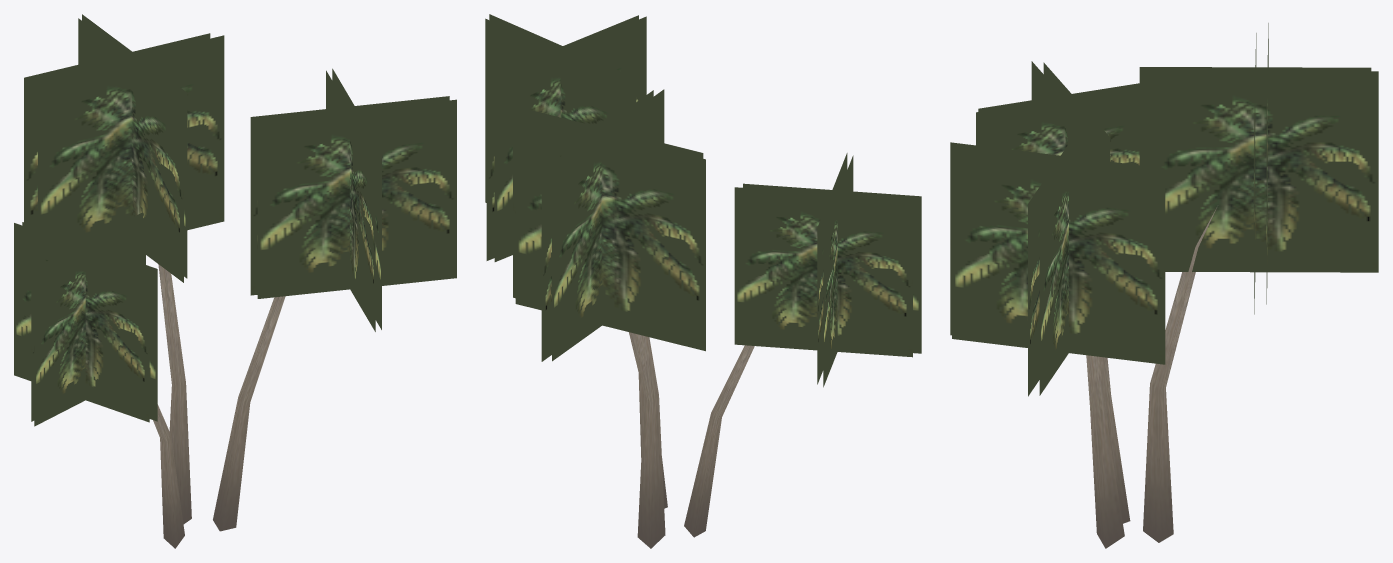
The model's file is palms.glb.
3 views of the same model, side by side, from view 1: azimuth 30°, elevation 25°; view 2: azimuth 150°, elevation 25°; view 3: azimuth 270°, elevation 25° (orthographic). The views are drawn at different scales.
Parts seen in each view (by area): view 1: palms; view 2: palms; view 3: palms.
Boxes of the visible parts, <box> form: palms: <box>14,14,456,548</box>; palms: <box>485,14,921,548</box>; palms: <box>950,23,1378,548</box>.
Size of the model in its own units: 13.35 by 13.17 by 10.88.
Materials: 1 (1 with a texture image).
